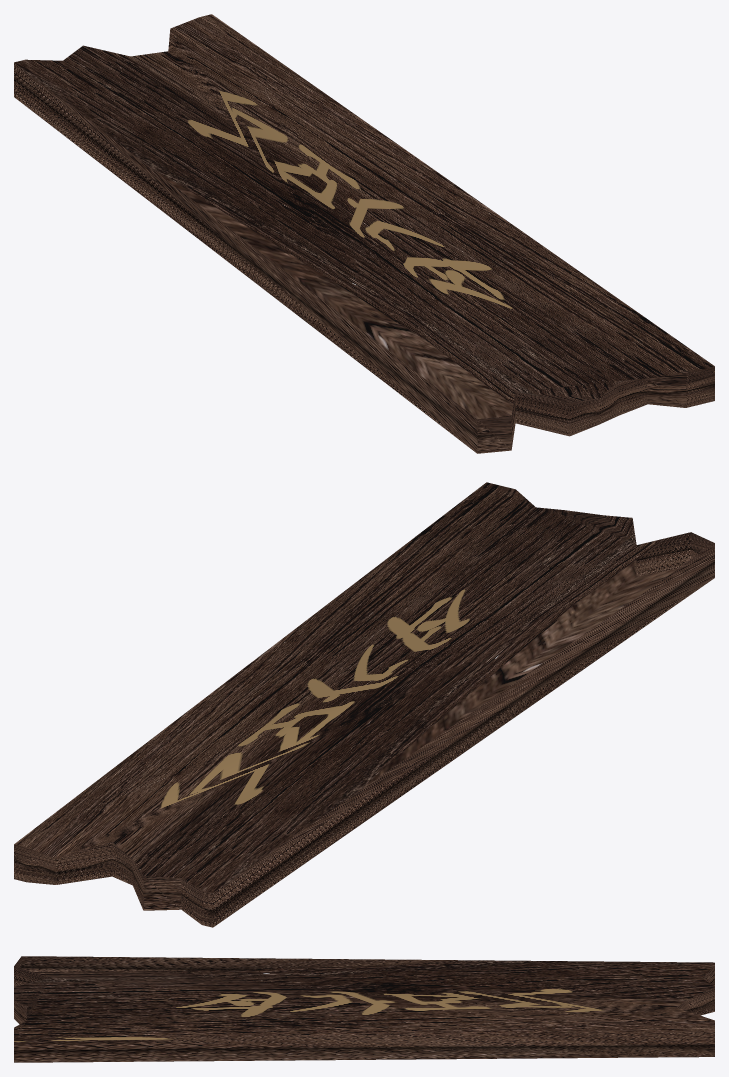
The model's file is plank1.fbx.
3 views of the same model, one above another, from view 1: azimuth 30°, elevation 25°; view 2: azimuth 150°, elevation 25°; view 3: azimuth 270°, elevation 25° (orthographic). The views are drawn at different scales.
Parts seen in each view (by area): view 1: Cube; view 2: Cube; view 3: Cube.
Boxes of the visible parts, x1,y1,x2,y2 form: Cube: (14,14,714,453); Cube: (14,482,714,927); Cube: (14,956,714,1062).
Size of the model in its own units: 200 by 28.49 by 725.
